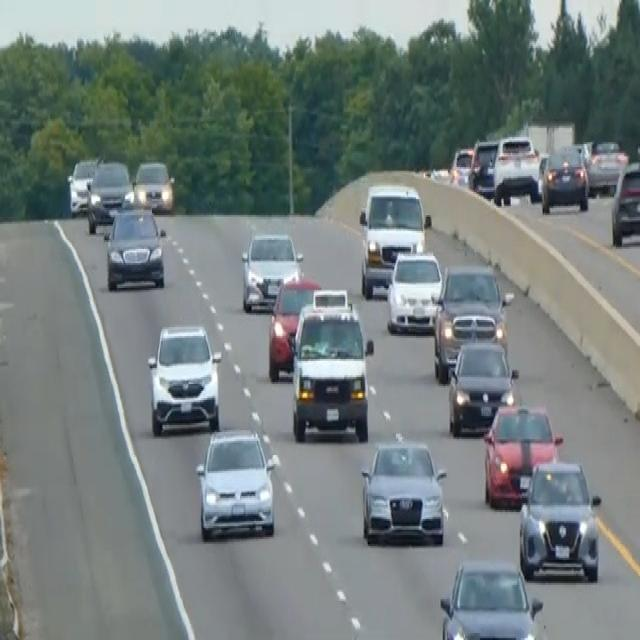car: (517, 457, 602, 581), (359, 434, 447, 546), (432, 263, 513, 381), (195, 425, 277, 540), (438, 556, 547, 638), (146, 320, 221, 436), (482, 400, 562, 508), (447, 338, 518, 436), (267, 276, 321, 380), (104, 204, 166, 290), (240, 229, 303, 311), (385, 247, 443, 334), (540, 142, 589, 214), (86, 158, 132, 233), (610, 158, 639, 247), (586, 137, 628, 194), (133, 158, 174, 212), (467, 137, 498, 197), (66, 157, 98, 215), (448, 144, 474, 187)
minivan: (289, 298, 374, 442), (357, 180, 431, 298)
